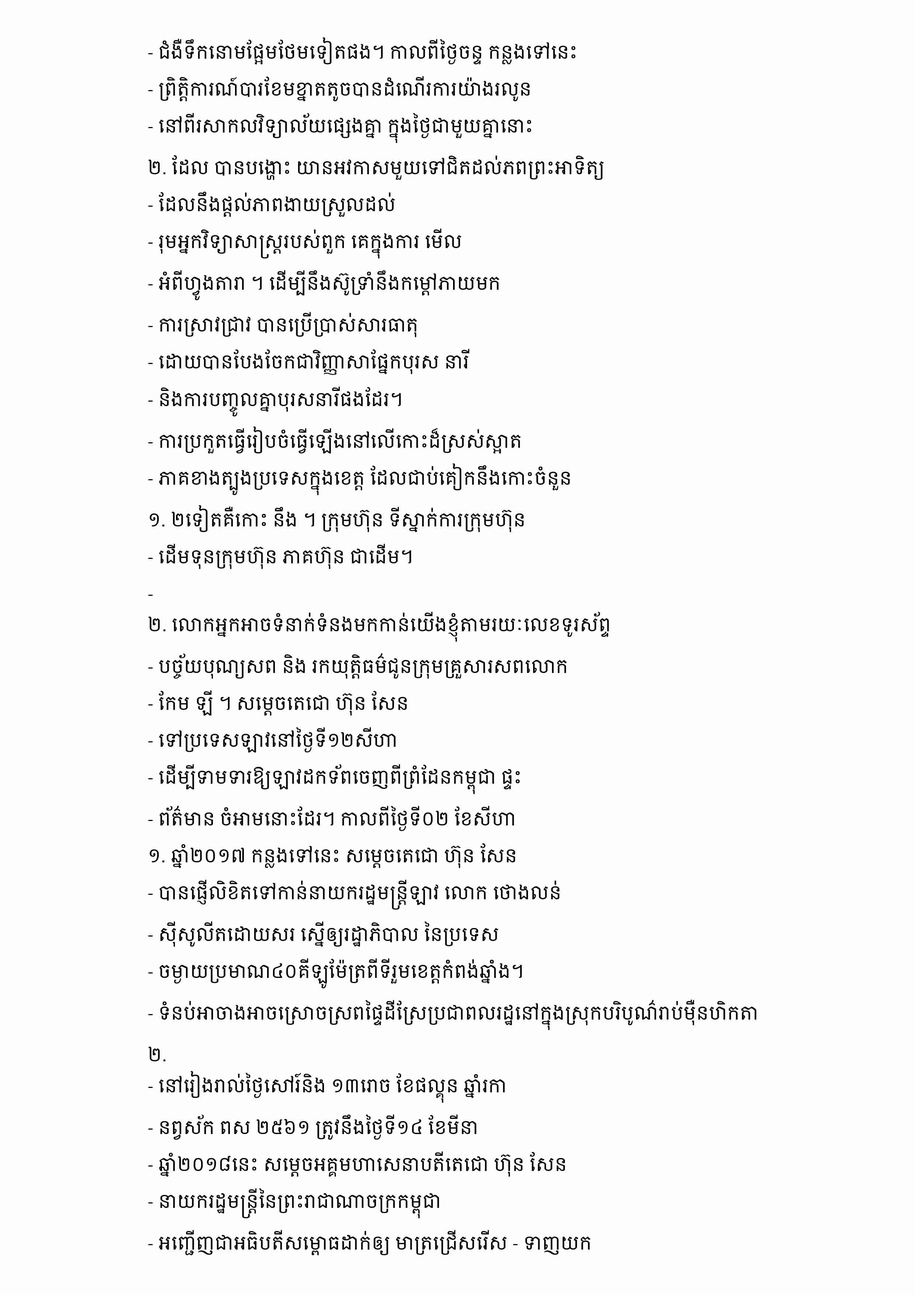text: (148, 1000, 763, 1030), (148, 612, 616, 642), (148, 463, 577, 495), (148, 880, 566, 910), (148, 37, 583, 65), (148, 958, 529, 989), (148, 113, 538, 143), (148, 1230, 597, 1256), (148, 1071, 512, 1103), (148, 155, 610, 180), (148, 764, 527, 794), (148, 653, 573, 679), (148, 1151, 572, 1177), (148, 270, 506, 300), (148, 426, 527, 454), (148, 505, 531, 532), (148, 76, 537, 102), (148, 805, 521, 831), (148, 229, 467, 259), (148, 843, 522, 868), (148, 921, 504, 947), (148, 1188, 446, 1219), (148, 1114, 483, 1140), (148, 349, 474, 375), (148, 387, 408, 417), (148, 690, 414, 716), (148, 312, 424, 337), (148, 544, 418, 569), (148, 727, 403, 753), (148, 192, 401, 217), (148, 1047, 172, 1061), (148, 595, 158, 600)
